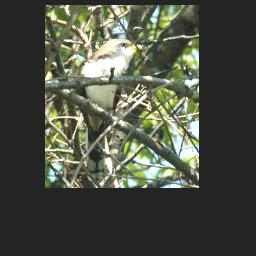Cuckoo: (73, 38, 149, 179)
